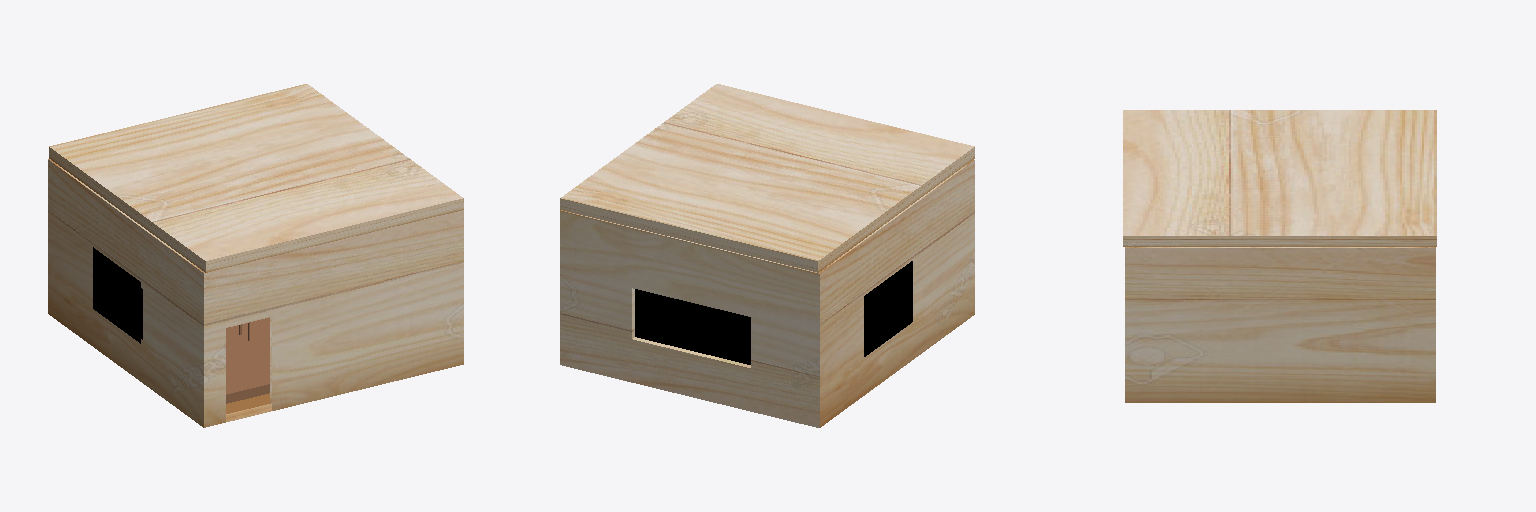
3 views of the same model, side by side, from view 1: azimuth 30°, elevation 25°; view 2: azimuth 150°, elevation 25°; view 3: azimuth 270°, elevation 25° (orthographic).
Size of the model in its own units: 41.44 by 25.44 by 43.25.
11 materials, 5 textured.